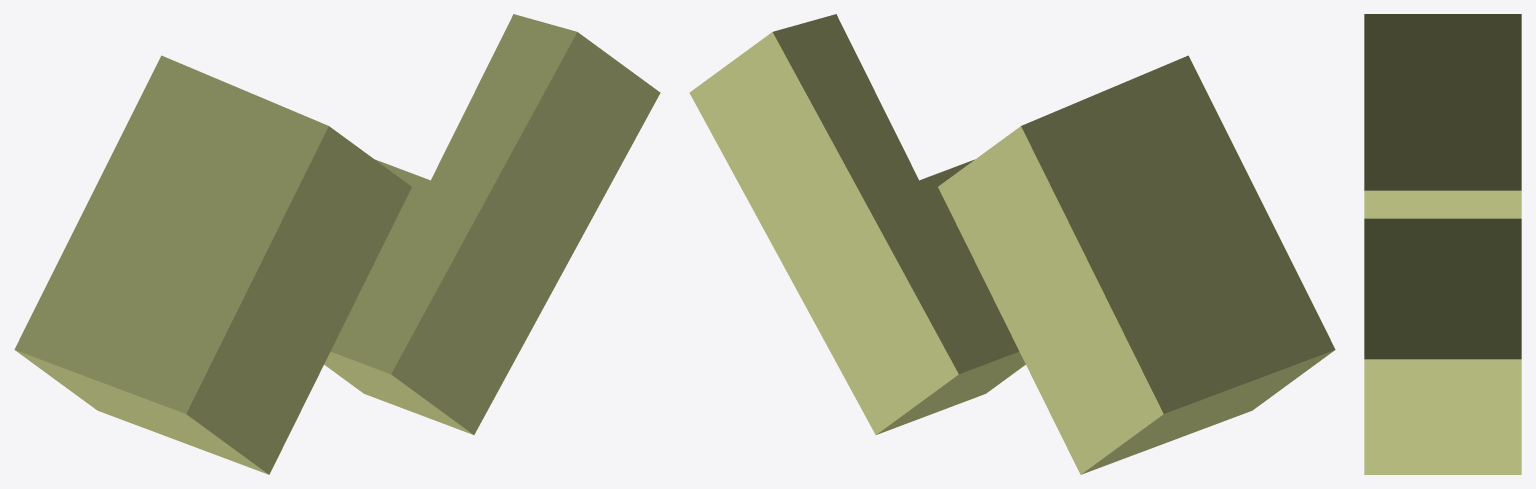
The picture shows the model from 3 angles, left to right: view 1: azimuth 30°, elevation 25°; view 2: azimuth 150°, elevation 25°; view 3: azimuth 270°, elevation 25°; orthographic projection. The views are drawn at different scales.
Parts seen in each view (by area): view 1: 0_1_0_0_2_1_3_0_0_3; view 2: 0_1_0_0_2_1_3_0_0_3; view 3: 0_1_0_0_2_1_3_0_0_3.
Boxes of the visible parts, x1=… form: 0_1_0_0_2_1_3_0_0_3: x1=14, y1=14, x2=660, y2=474; 0_1_0_0_2_1_3_0_0_3: x1=689, y1=14, x2=1335, y2=474; 0_1_0_0_2_1_3_0_0_3: x1=1364, y1=14, x2=1521, y2=474.
Size of the model in its own units: 23.46 by 14.93 by 6.
